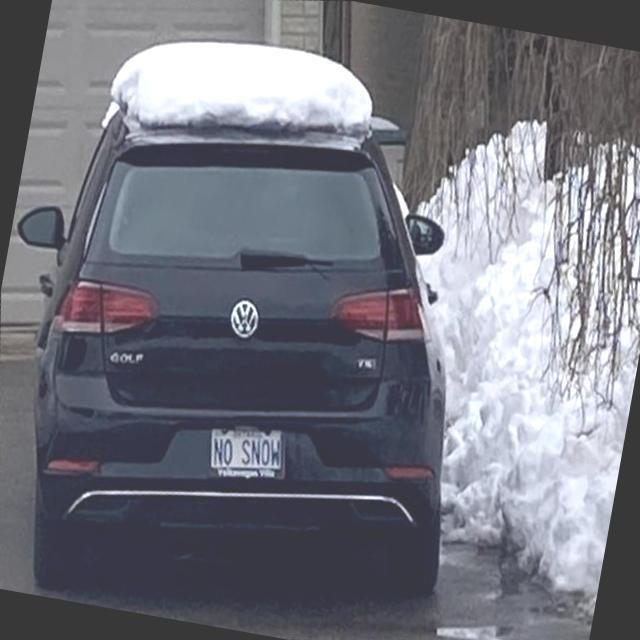license-plate: (215, 431, 298, 487)
